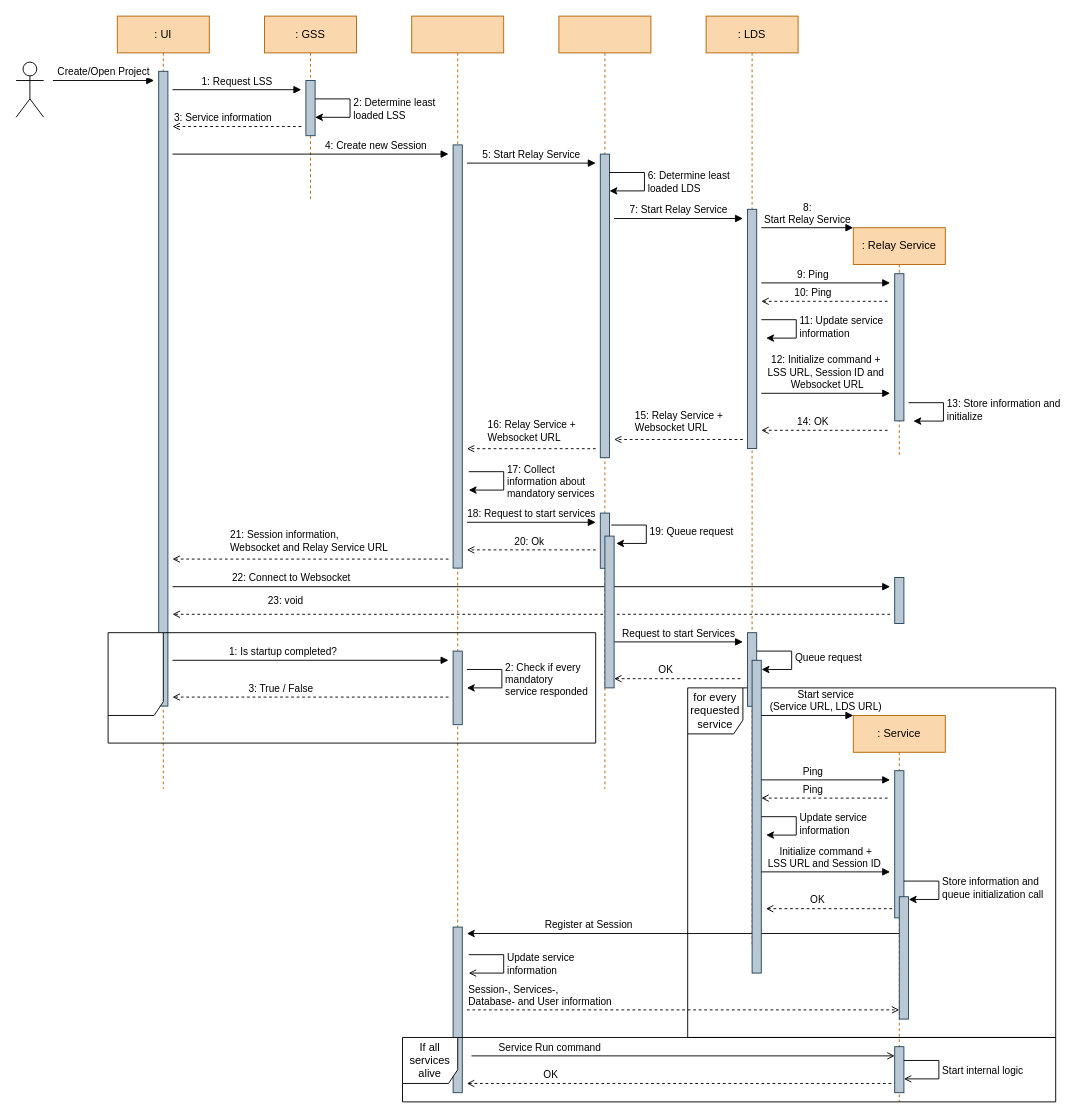
Image size: 1077x1119. Some labels were removed from this diagram. Each missing label, with the box of its shape:
: GDS: (558, 15, 651, 789)
: LSS: (411, 15, 504, 1083)
Actor: (15, 61, 44, 117)
while startup not completed: (107, 632, 596, 743)
